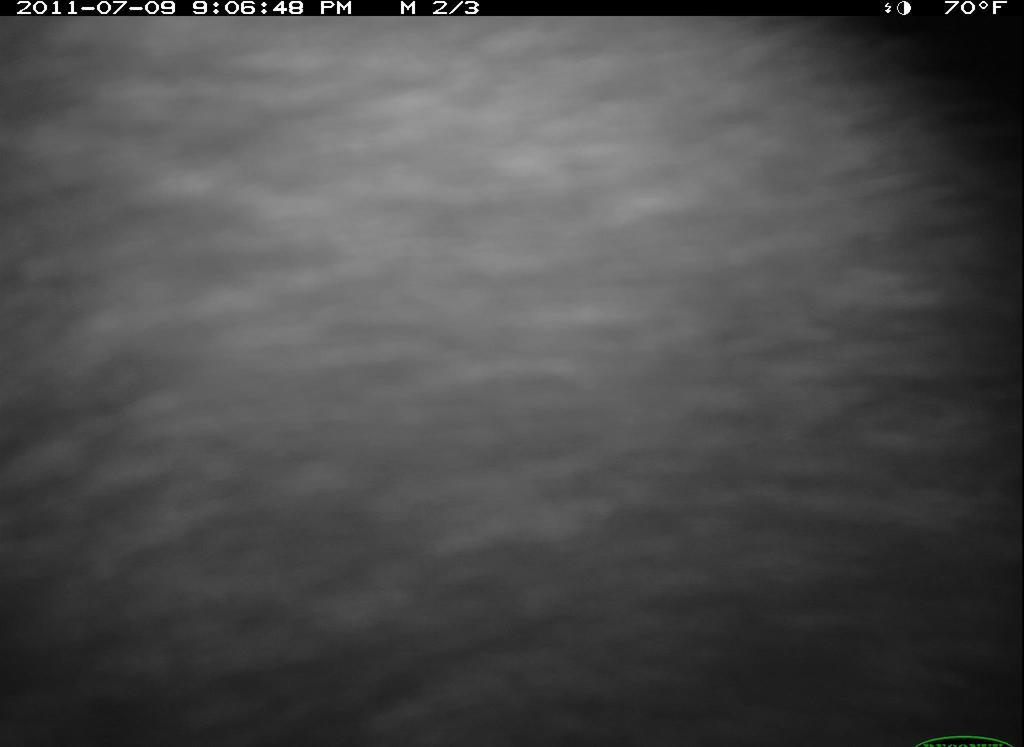raccoon: (8, 17, 1017, 742)
